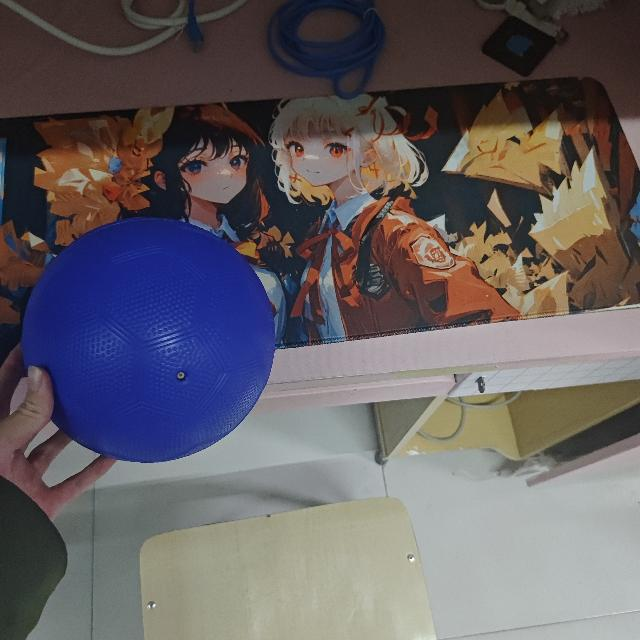B: (15, 212, 281, 460)
